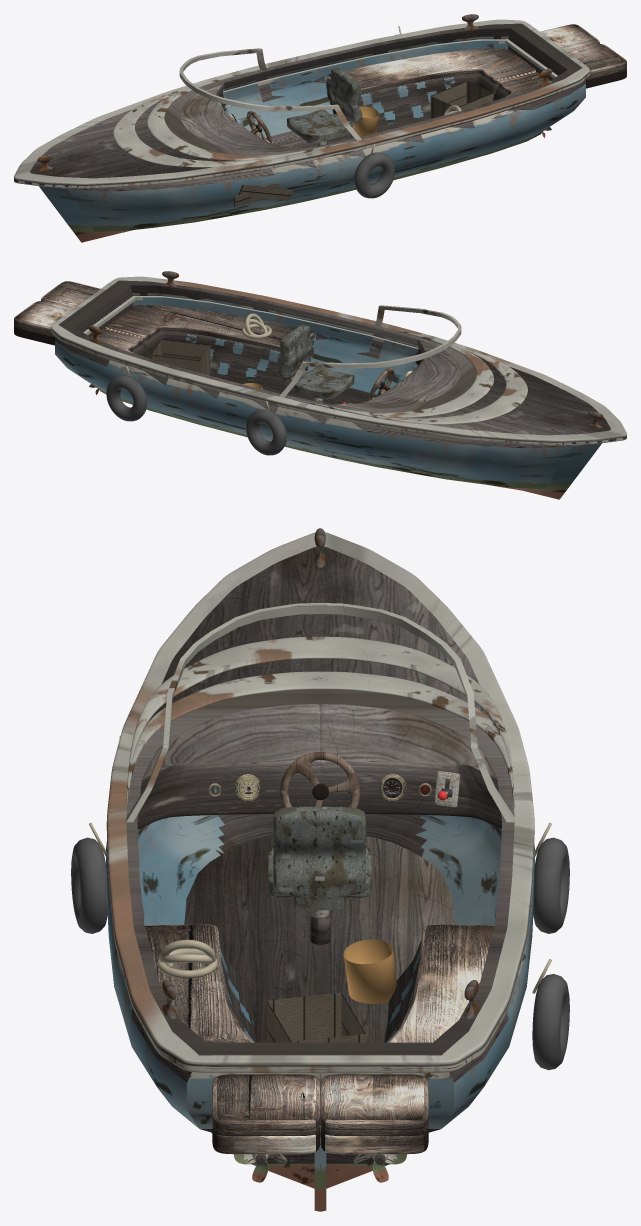
The model's file is fast_boat_pecheur.glb.
The picture shows the model from 3 angles, top to bottom: view 1: azimuth 30°, elevation 25°; view 2: azimuth 150°, elevation 25°; view 3: azimuth 270°, elevation 25°; orthographic projection. The views are drawn at different scales.
Visible parts, largest first — view 1: Object_15, Object_9, Object_17, Object_14, Object_11, Object_13, Object_10, Object_18, Object_12, Caisse, Pneu_0, Rustine_1 (+4 smaller); view 2: Object_15, Object_14, Object_9, Object_17, Object_11, Object_13, Object_10, Object_18, Object_12, Caisse, Pneu_2, Pneu_1 (+3 smaller); view 3: Object_15, Object_13, Object_17, Object_11, Object_14, Object_9, Object_10, Object_18, Object_12, Caisse, Object_6, Pneu_2 (+6 smaller).
Part boxes in pixels (x1=…): Object_15: x1=30, y1=23, x2=585, y2=231; Object_9: x1=39, y1=39, x2=557, y2=242; Object_17: x1=327, y1=24, x2=626, y2=97; Object_14: x1=14, y1=71, x2=589, y2=187; Object_11: x1=14, y1=19, x2=589, y2=188; Object_13: x1=164, y1=69, x2=364, y2=189; Object_10: x1=14, y1=76, x2=588, y2=188; Object_18: x1=287, y1=67, x2=362, y2=143; Object_12: x1=147, y1=71, x2=347, y2=160; Caisse: x1=430, y1=81, x2=493, y2=118; Pneu_0: x1=354, y1=152, x2=394, y2=198; Rustine_1: x1=238, y1=184, x2=293, y2=200; Object_15: x1=55, y1=280, x2=610, y2=488; Object_14: x1=51, y1=329, x2=626, y2=444; Object_9: x1=83, y1=296, x2=601, y2=499; Object_17: x1=14, y1=281, x2=313, y2=353; Object_11: x1=51, y1=276, x2=626, y2=445; Object_13: x1=284, y1=326, x2=476, y2=459; Object_10: x1=51, y1=282, x2=625, y2=445; Object_18: x1=279, y1=324, x2=354, y2=400; Object_12: x1=293, y1=328, x2=493, y2=417; Caisse: x1=151, y1=339, x2=210, y2=375; Pneu_2: x1=106, y1=375, x2=147, y2=421; Pneu_1: x1=246, y1=409, x2=286, y2=455; Object_15: x1=106, y1=546, x2=534, y2=1211; Object_13: x1=106, y1=689, x2=514, y2=924; Object_17: x1=144, y1=924, x2=494, y2=1135; Object_11: x1=107, y1=532, x2=534, y2=1072; Object_14: x1=106, y1=704, x2=534, y2=1070; Object_9: x1=126, y1=603, x2=514, y2=1188; Object_10: x1=106, y1=539, x2=533, y2=1182; Object_18: x1=268, y1=806, x2=371, y2=910; Object_12: x1=126, y1=671, x2=514, y2=808; Caisse: x1=267, y1=992, x2=365, y2=1042; Object_6: x1=212, y1=1127, x2=428, y2=1154; Pneu_2: x1=532, y1=974, x2=569, y2=1070.
Bounding box in the file's own units: 6.74 × 1.45 × 2.48.
17 materials, 13 textured.
